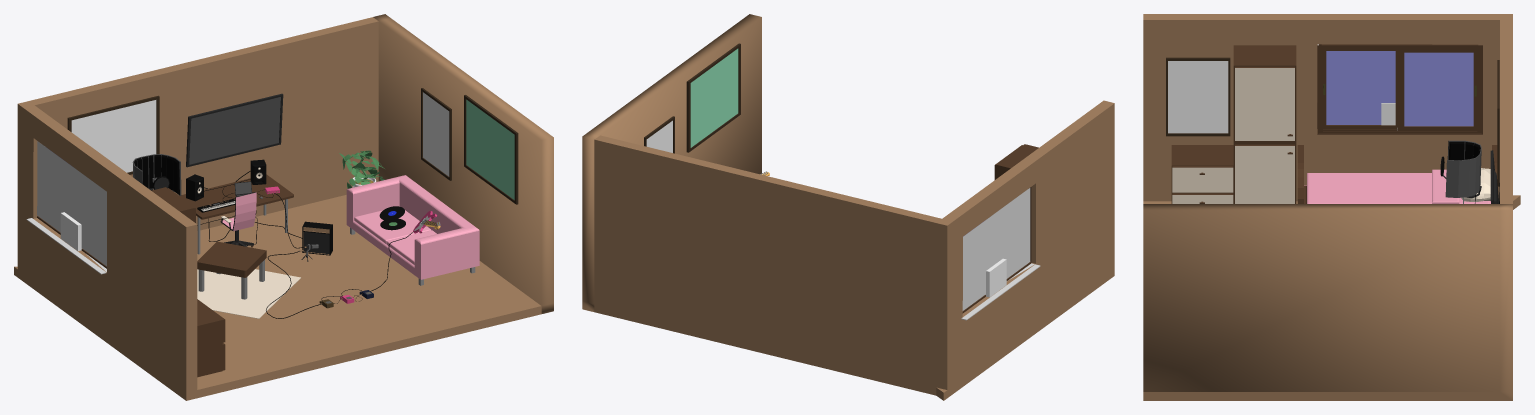
The model's file is iso-music-room.glb.
3 views of the same model, side by side, from view 1: azimuth 30°, elevation 25°; view 2: azimuth 150°, elevation 25°; view 3: azimuth 270°, elevation 25° (orthographic). The views are drawn at different scales.
Parts seen in each view (by area): view 1: walls, Plane.019_Plane.020, Plane.037_Plane.038, Plane.041_Plane.040, Plane.078_Plane.079, Plane.078_Plane.001, Plane.022_Plane.024, Plane.003, Plane.017, Plane.019, Plane.002, Plane.036_Plane.037 (+7 smaller); view 2: walls, Plane.041_Plane.040, Plane.078_Plane.001, Plane.003, CTRL_Hole_CTRL_Hole.002, Cube.016_Cube.020, Windows_Sill.001; view 3: walls, Cube.016_Cube.020, Window.R_Window.R.001, Window.L_Window.L.001, Plane.018, Plane, Plane.017, WindowFrame_WindowFrane.001, Plane.036_Plane.037, Plane.001, Cube.001, Plane.078_Plane.079 (+2 smaller).
Boxes of the visible parts, x1=… form: walls: x1=14, y1=14, x2=553, y2=400; Plane.019_Plane.020: x1=346, y1=175, x2=479, y2=279; Plane.037_Plane.038: x1=186, y1=93, x2=283, y2=167; Plane.041_Plane.040: x1=37, y1=141, x2=106, y2=266; Plane.078_Plane.079: x1=67, y1=95, x2=159, y2=174; Plane.078_Plane.001: x1=464, y1=95, x2=518, y2=204; Plane.022_Plane.024: x1=197, y1=269, x2=300, y2=318; Plane.003: x1=421, y1=88, x2=451, y2=180; Plane.017: x1=197, y1=299, x2=225, y2=377; Plane.019: x1=197, y1=241, x2=266, y2=277; Plane.002: x1=179, y1=174, x2=293, y2=219; Plane.036_Plane.037: x1=132, y1=154, x2=181, y2=195; walls: x1=582, y1=14, x2=1114, y2=400; Plane.041_Plane.040: x1=962, y1=188, x2=1030, y2=310; Plane.078_Plane.001: x1=686, y1=43, x2=740, y2=152; Plane.003: x1=644, y1=116, x2=674, y2=153; CTRL_Hole_CTRL_Hole.002: x1=985, y1=258, x2=1006, y2=297; Cube.016_Cube.020: x1=994, y1=144, x2=1038, y2=179; Windows_Sill.001: x1=961, y1=263, x2=1040, y2=320; walls: x1=1143, y1=14, x2=1520, y2=400; Cube.016_Cube.020: x1=1233, y1=45, x2=1296, y2=203; Window.R_Window.R.001: x1=1397, y1=48, x2=1477, y2=130; Window.L_Window.L.001: x1=1323, y1=49, x2=1397, y2=129; Plane.018: x1=1166, y1=57, x2=1230, y2=136; Plane: x1=1304, y1=169, x2=1490, y2=203; Plane.017: x1=1171, y1=145, x2=1233, y2=203; WindowFrame_WindowFrane.001: x1=1317, y1=44, x2=1482, y2=134; Plane.036_Plane.037: x1=1445, y1=140, x2=1481, y2=197; Plane.001: x1=1461, y1=168, x2=1490, y2=201; Cube.001: x1=1297, y1=145, x2=1303, y2=203; Plane.078_Plane.079: x1=1497, y1=60, x2=1499, y2=186.
Size of what is drawn, in the model's own units: 15.09 by 6.93 by 12.07.
